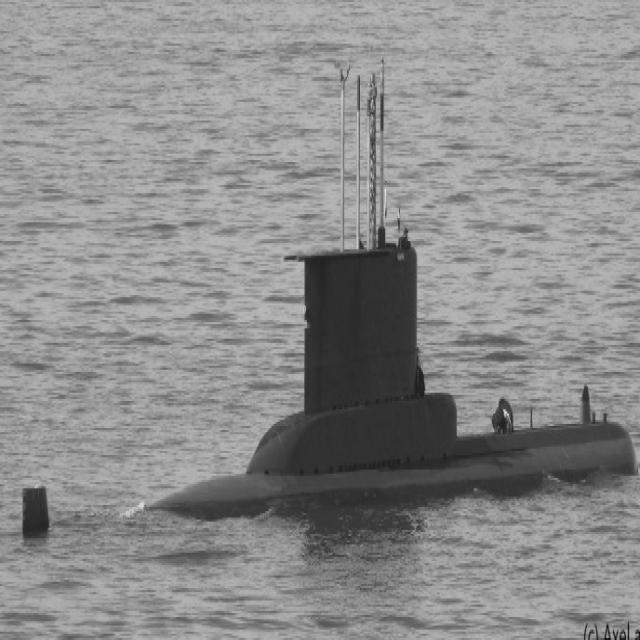submarine: (21, 49, 640, 550)
